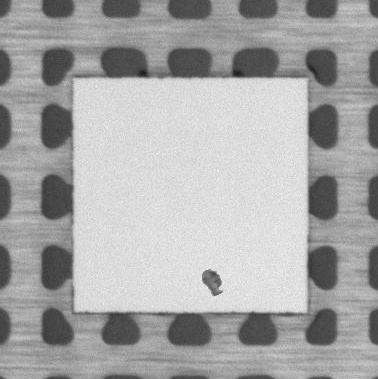DIE_INK: (197, 266, 225, 300)
